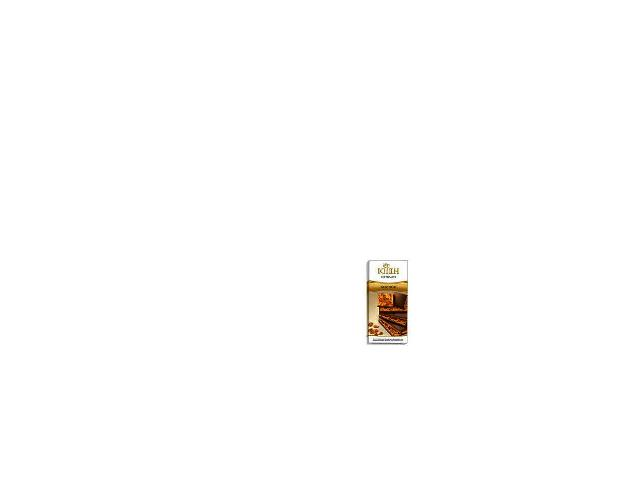chocolate: (350, 255, 415, 347)
